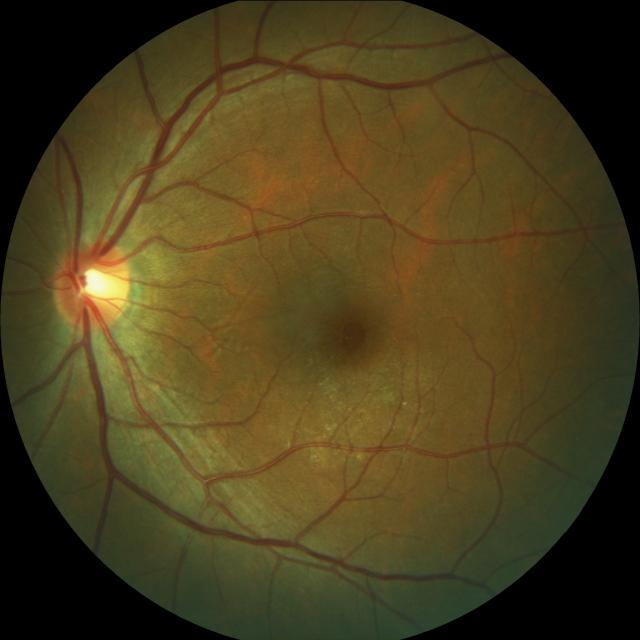OC: (72, 254, 114, 304)
OD: (51, 238, 131, 330)
